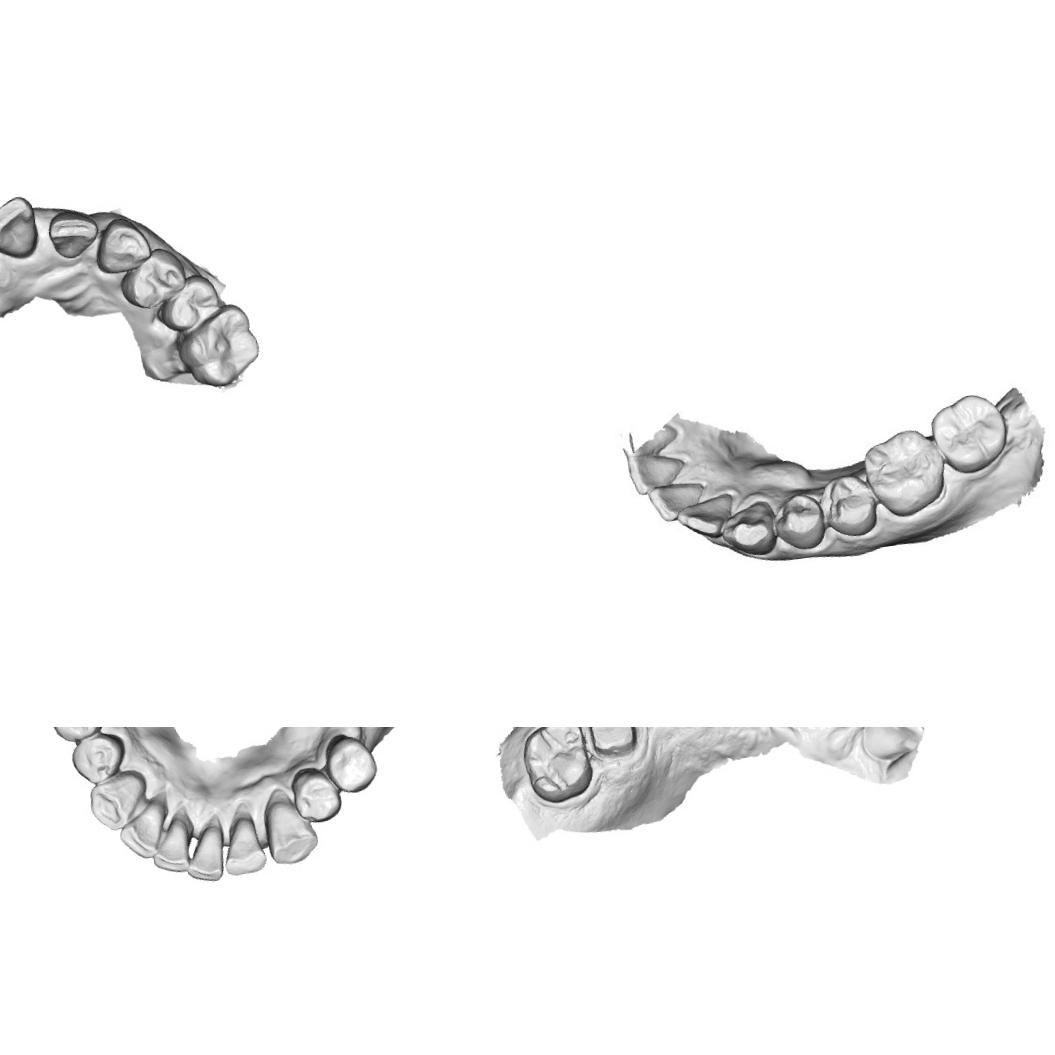canine: (257, 793, 323, 869), (83, 766, 154, 835), (89, 212, 155, 278), (721, 496, 784, 556)
crown: (577, 727, 643, 762)
incisor: (626, 441, 698, 498), (114, 798, 176, 864), (216, 812, 272, 880), (43, 202, 104, 264), (178, 820, 233, 886), (144, 812, 196, 880), (0, 191, 44, 267), (645, 474, 707, 524), (852, 727, 930, 765), (678, 496, 736, 546)
molar: (168, 298, 266, 395), (859, 425, 948, 520), (929, 388, 1016, 480), (513, 727, 599, 810)
premolar: (114, 242, 192, 315), (150, 269, 228, 338), (818, 470, 881, 542), (319, 729, 381, 799), (287, 761, 346, 828), (67, 728, 132, 788), (775, 486, 831, 548), (45, 727, 112, 747)
